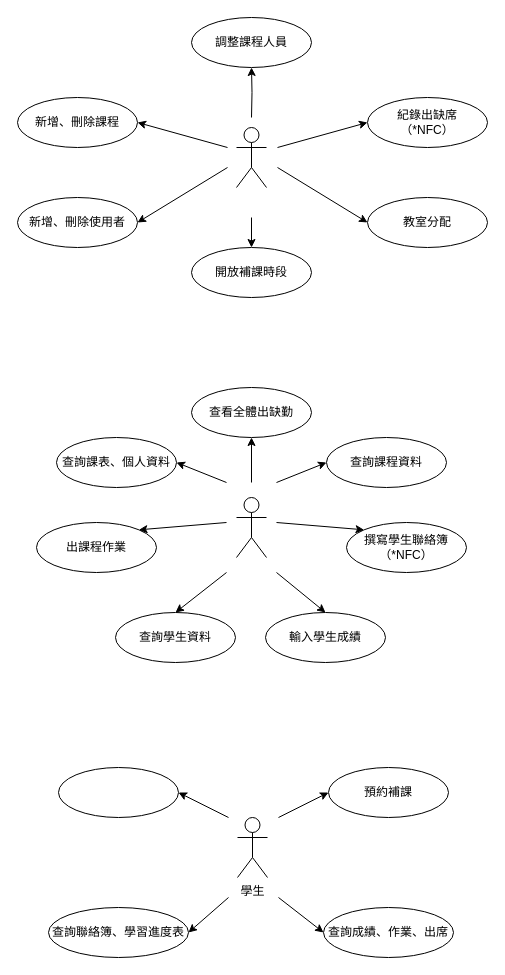
Some shapes in this 505 by 975 pixel diagram are drawn without their labels. Each missing label, with the box of its shape:
查課表、個人資料: (58, 766, 178, 818)
老師: (236, 496, 266, 558)
補習班: (236, 126, 266, 188)
